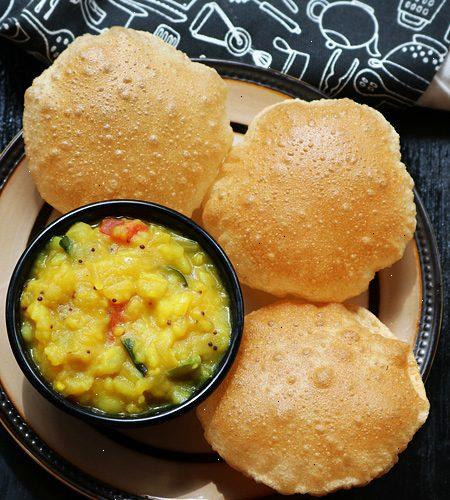puri: (242, 176, 430, 489)
